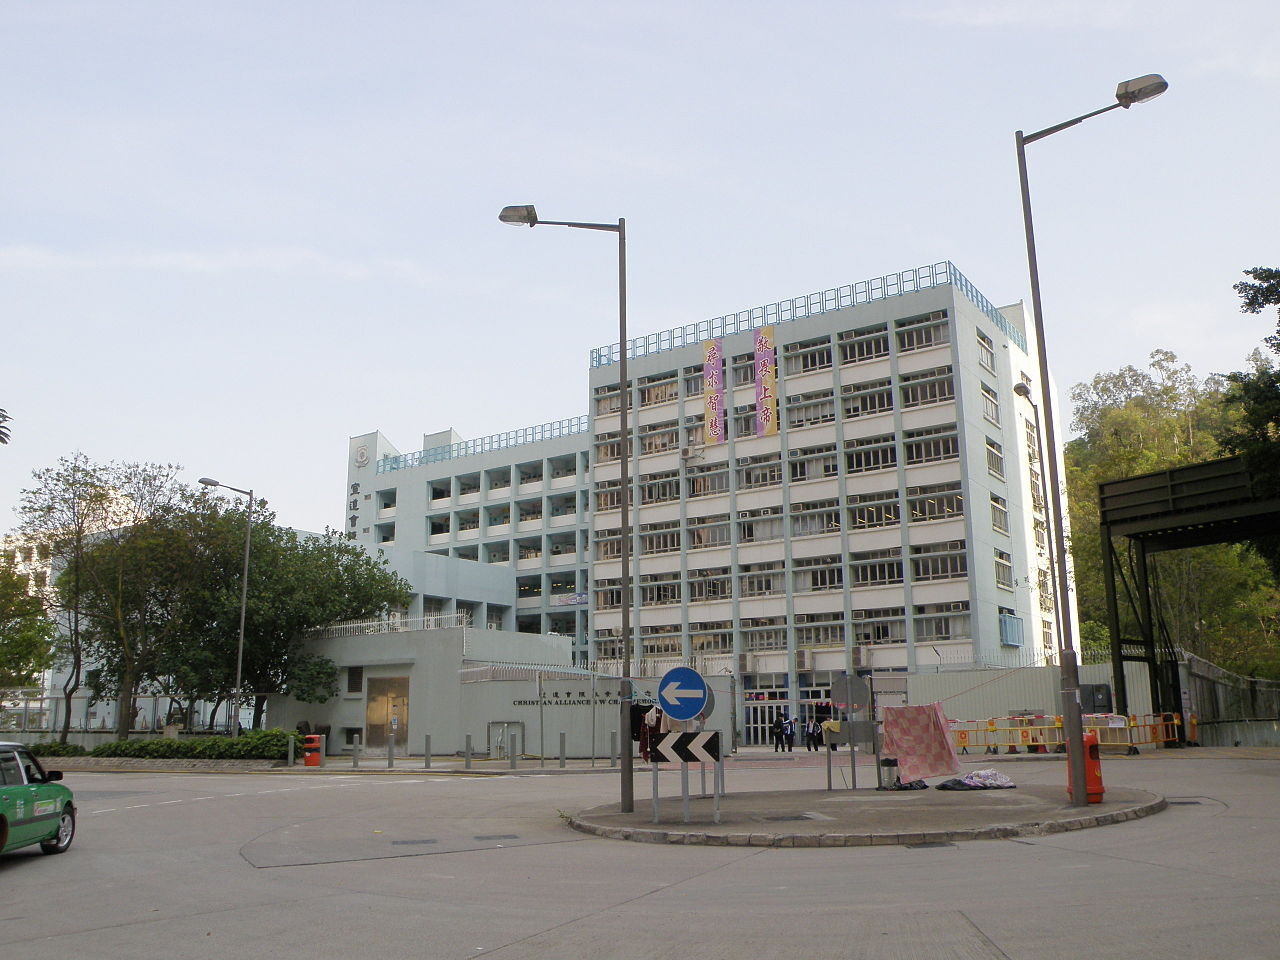Turn Left: (658, 667, 708, 722)
Turn Left(quick): (652, 731, 719, 766)
